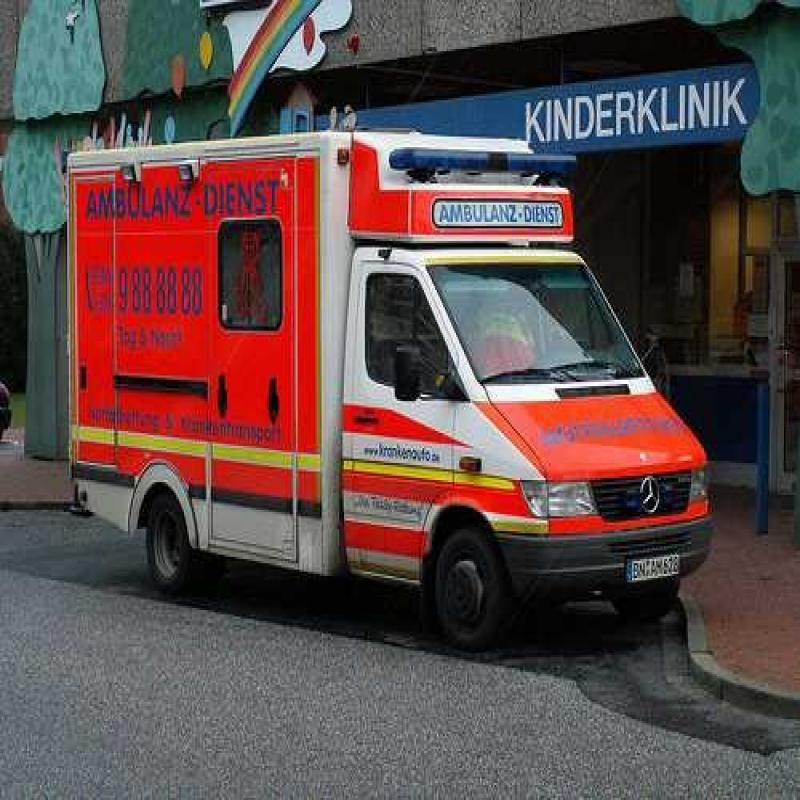AmbulanceSiren: (385, 137, 588, 196)
